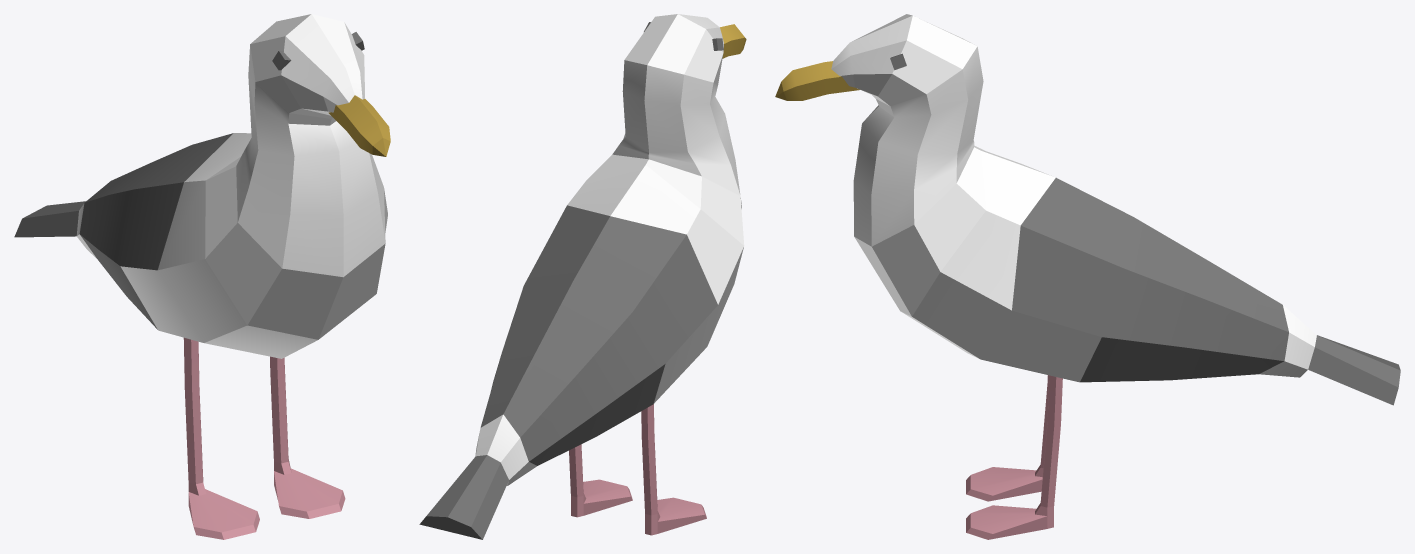
Rendered from Mesh_Seagull.obj.
3 renders of one model, left to right at view 1: azimuth 30°, elevation 25°; view 2: azimuth 150°, elevation 25°; view 3: azimuth 270°, elevation 25°, orthographic. The views are drawn at different scales.
Visible parts, largest first — view 1: Geo_Seagull; view 2: Geo_Seagull; view 3: Geo_Seagull.
Boxes of the visible parts, x1,y1,x2,y2 form: Geo_Seagull: [14, 14, 390, 539]; Geo_Seagull: [419, 14, 746, 539]; Geo_Seagull: [775, 14, 1400, 539].
Bounding box in the file's own units: 22.91 × 58.2 × 67.23.
1 material, 1 textured.
